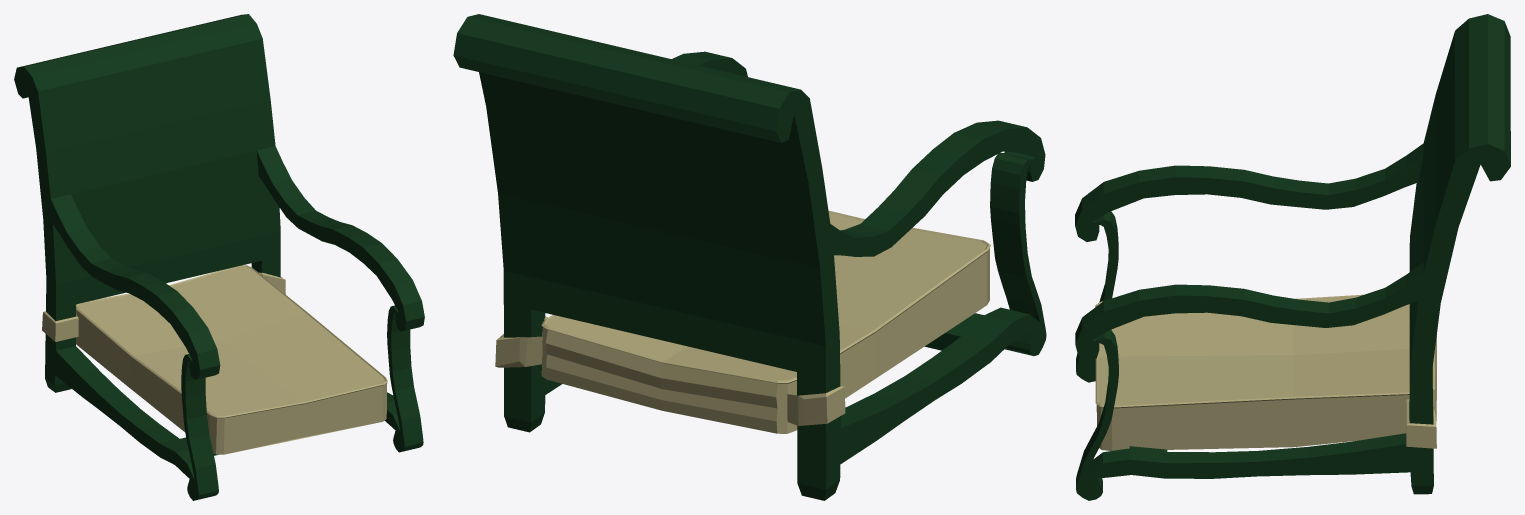
File: restaurant_chair.fbx
The picture shows the model from 3 angles, left to right: view 1: azimuth 30°, elevation 25°; view 2: azimuth 150°, elevation 25°; view 3: azimuth 270°, elevation 25°; orthographic projection. The views are drawn at different scales.
Parts seen in each view (by area): view 1: Cube.005, Cube.006; view 2: Cube.005, Cube.006; view 3: Cube.005, Cube.006.
Boxes of the visible parts, x1,y1,x2,y2 form: Cube.005: (14, 14, 424, 500); Cube.006: (42, 265, 387, 454); Cube.005: (453, 14, 1046, 500); Cube.006: (495, 210, 990, 433); Cube.005: (1075, 14, 1510, 500); Cube.006: (1095, 294, 1436, 450).
Size of the model in its own units: 155 by 198 by 217.
